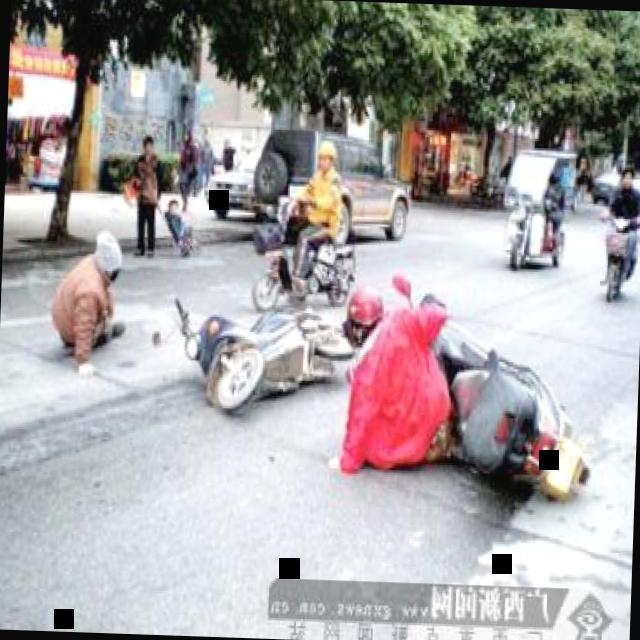Fall-Detected: (45, 215, 145, 379)
